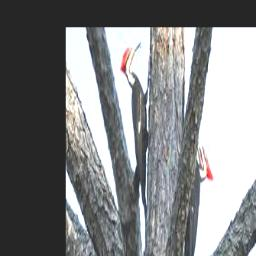Woodpecker: (121, 42, 151, 219), (183, 128, 214, 256)
